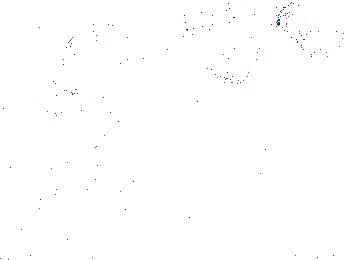moon jellyfish: (51, 18, 168, 95), (41, 93, 139, 160), (184, 1, 262, 85), (12, 14, 67, 91), (277, 1, 345, 62)
